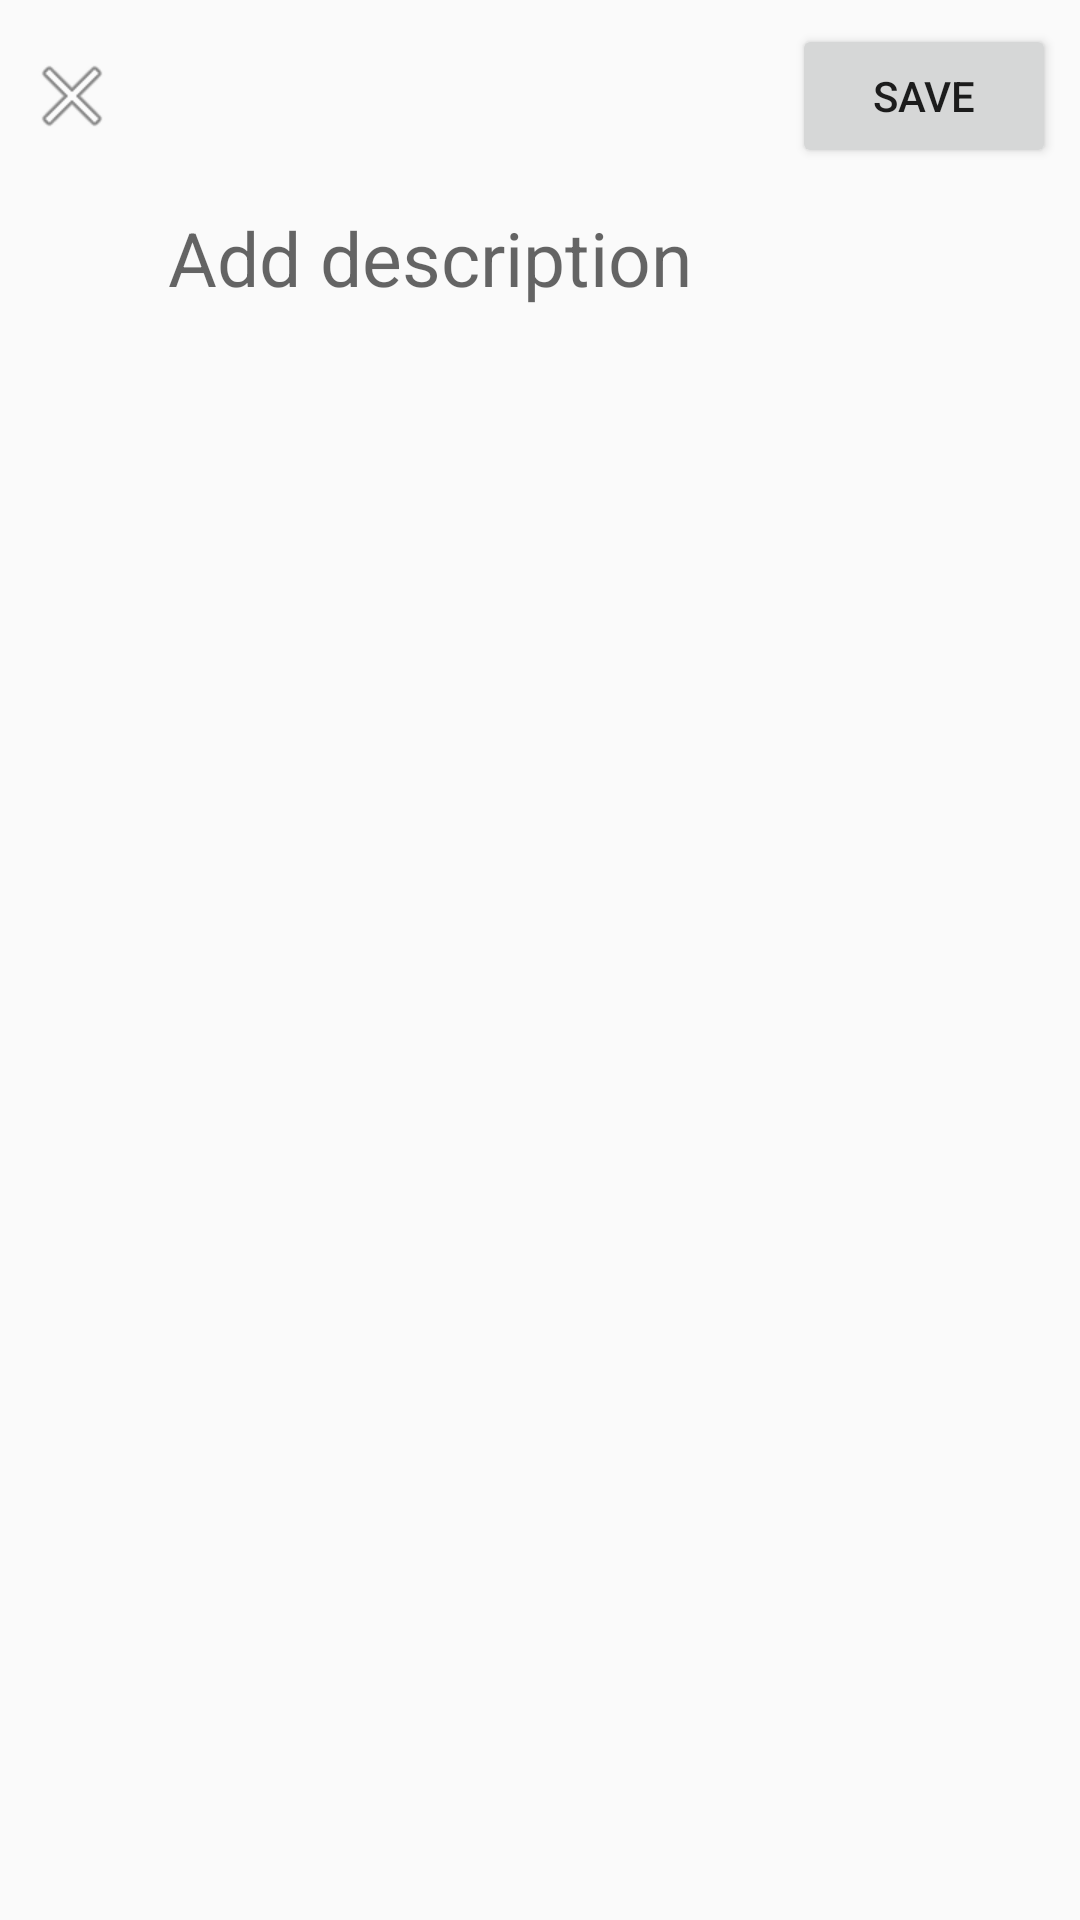

Locate icon controls on the screen. Image size 1080*1920, boxes as (x1, y1, x2, y2).
close clear cancel: (42, 66, 102, 126)
